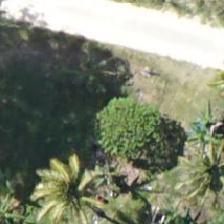coconut_tree: (26, 145, 116, 223), (169, 128, 223, 218)
